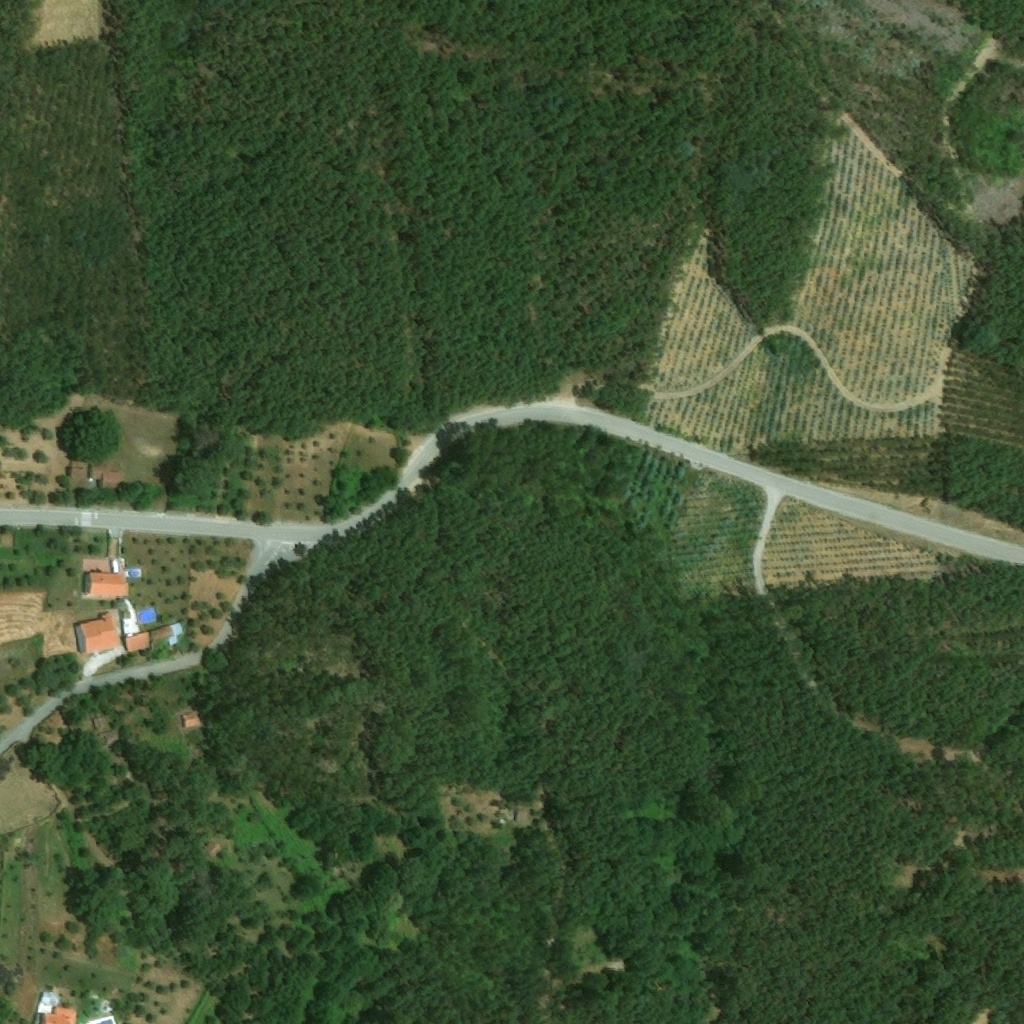0 no-damage: (74, 611, 121, 657), (123, 623, 184, 655), (89, 572, 133, 596), (89, 462, 123, 491), (39, 1007, 78, 1023), (199, 840, 223, 864), (182, 710, 205, 731), (39, 991, 62, 1007), (70, 460, 90, 477), (93, 716, 109, 732)
